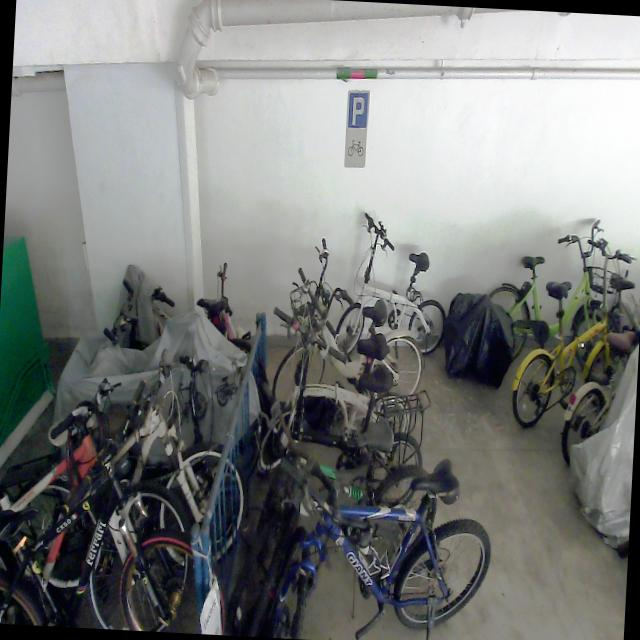bike: (0, 372, 238, 635), (17, 340, 252, 604), (0, 373, 200, 633), (240, 447, 495, 640), (255, 360, 426, 540), (258, 304, 416, 480), (271, 235, 429, 410), (482, 215, 631, 388), (510, 233, 640, 430), (335, 210, 452, 359)
